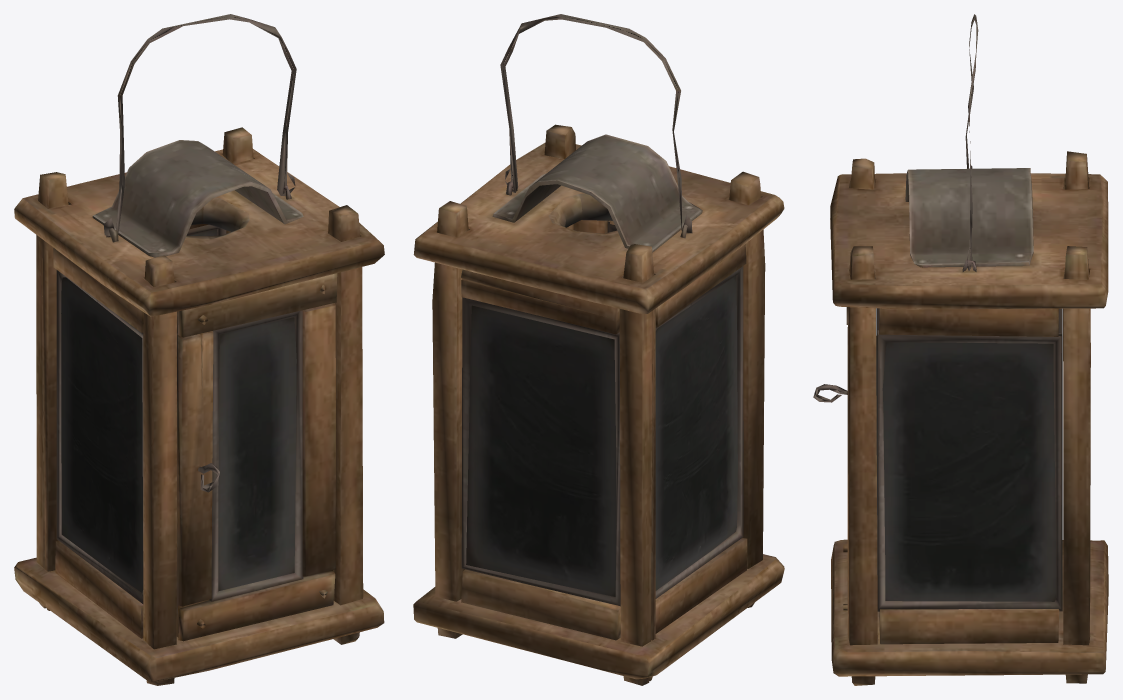
Rendered from wooden_lantern_01.glb.
3 renders of one model, left to right at view 1: azimuth 30°, elevation 25°; view 2: azimuth 150°, elevation 25°; view 3: azimuth 270°, elevation 25°, orthographic.
Parts seen in each view (by area): view 1: wooden_lantern_01; view 2: wooden_lantern_01; view 3: wooden_lantern_01.
Boxes of the visible parts, bbox=[...] form: wooden_lantern_01: bbox=[14, 14, 384, 685]; wooden_lantern_01: bbox=[413, 14, 784, 685]; wooden_lantern_01: bbox=[813, 14, 1108, 685].
Size of the model in its own units: 0.221 by 0.5278 by 0.2336.
2 materials, 2 textured.
